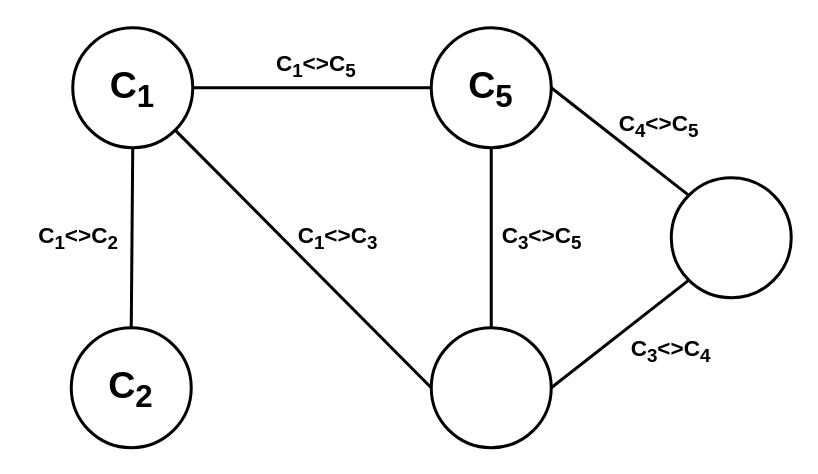
Image size: 818x474. Some labels were removed from this diagram. The box of each missing label's shape, as (x1, y1, x2, y2) in pixels:
C 3: (429, 326, 552, 448)
C 4: (669, 176, 792, 298)
